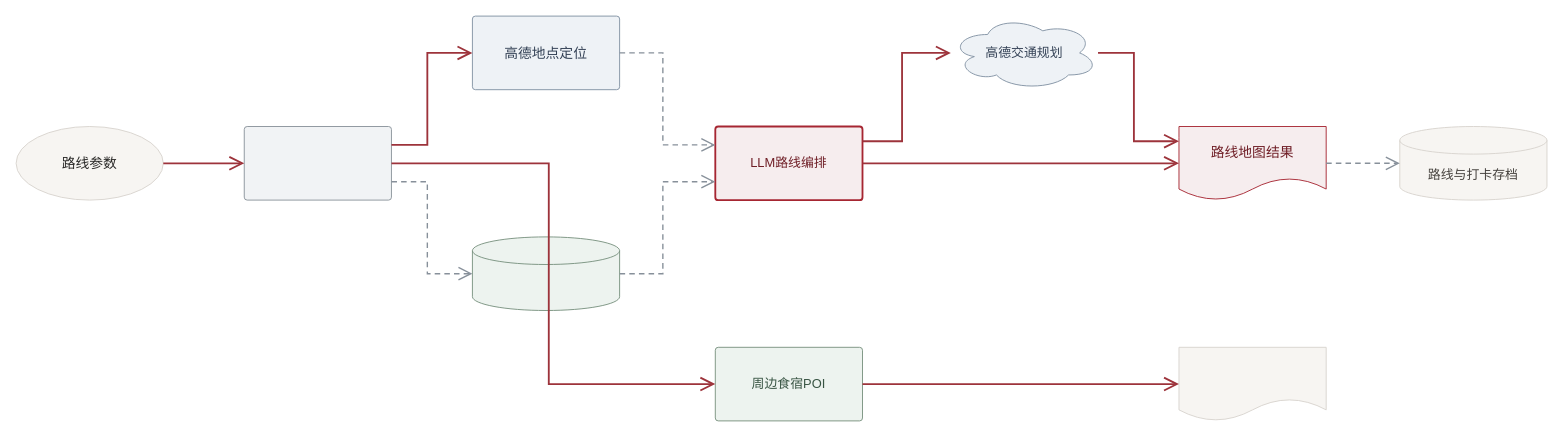
This 1563x437 diagram has some shape labels left out. Each missing label, with the box of its shape:
点位校验: (243, 126, 391, 200)
站点文化溯源: (472, 236, 620, 310)
食宿卡片与导航: (1178, 346, 1326, 421)
